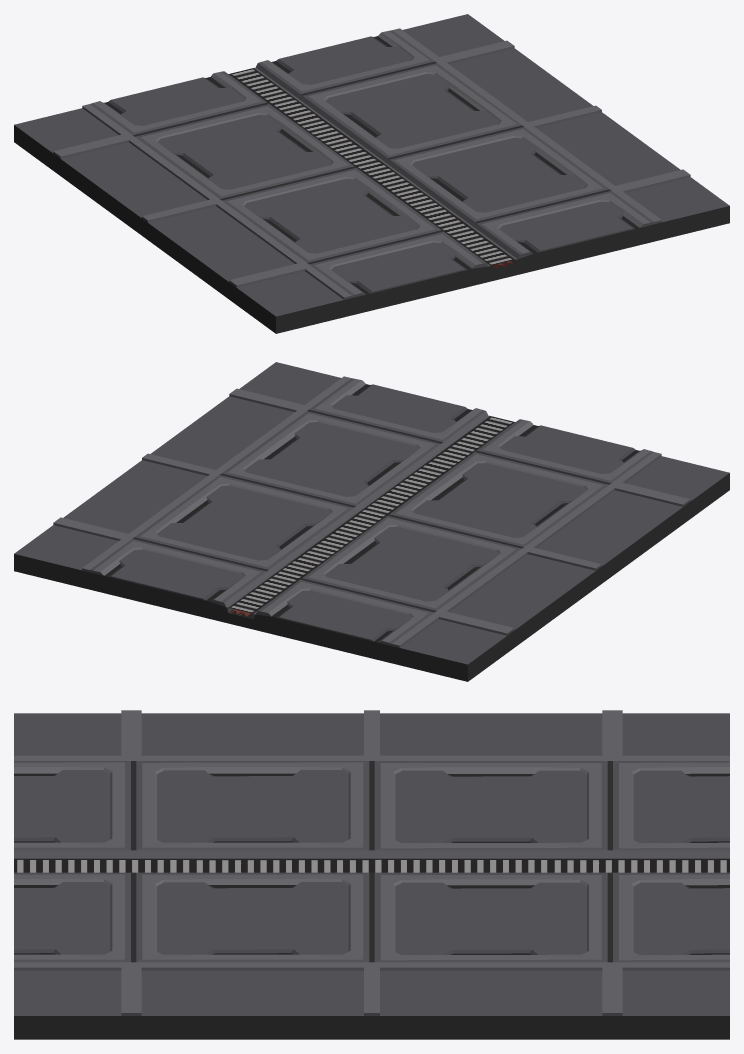
File: SM_Bld_Floor_04.fbx
3 views of the same model, one above another, from view 1: azimuth 30°, elevation 25°; view 2: azimuth 150°, elevation 25°; view 3: azimuth 270°, elevation 25° (orthographic). The views are drawn at different scales.
Visible parts, largest first — view 1: SM_Bld_Floor_04_LOD0; view 2: SM_Bld_Floor_04_LOD0; view 3: SM_Bld_Floor_04_LOD0.
Boxes of the visible parts, x1,y1,x2,y2 form: SM_Bld_Floor_04_LOD0: [14, 14, 729, 333]; SM_Bld_Floor_04_LOD0: [14, 362, 729, 681]; SM_Bld_Floor_04_LOD0: [14, 710, 729, 1039].
Bounding box in the file's own units: 500 × 500 × 21.2.
Materials: 1 (1 with a texture image).
